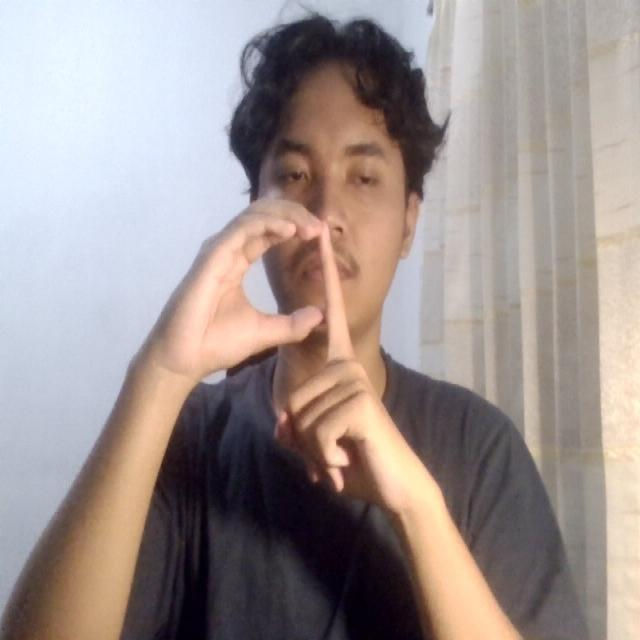D: (178, 187, 431, 524)
